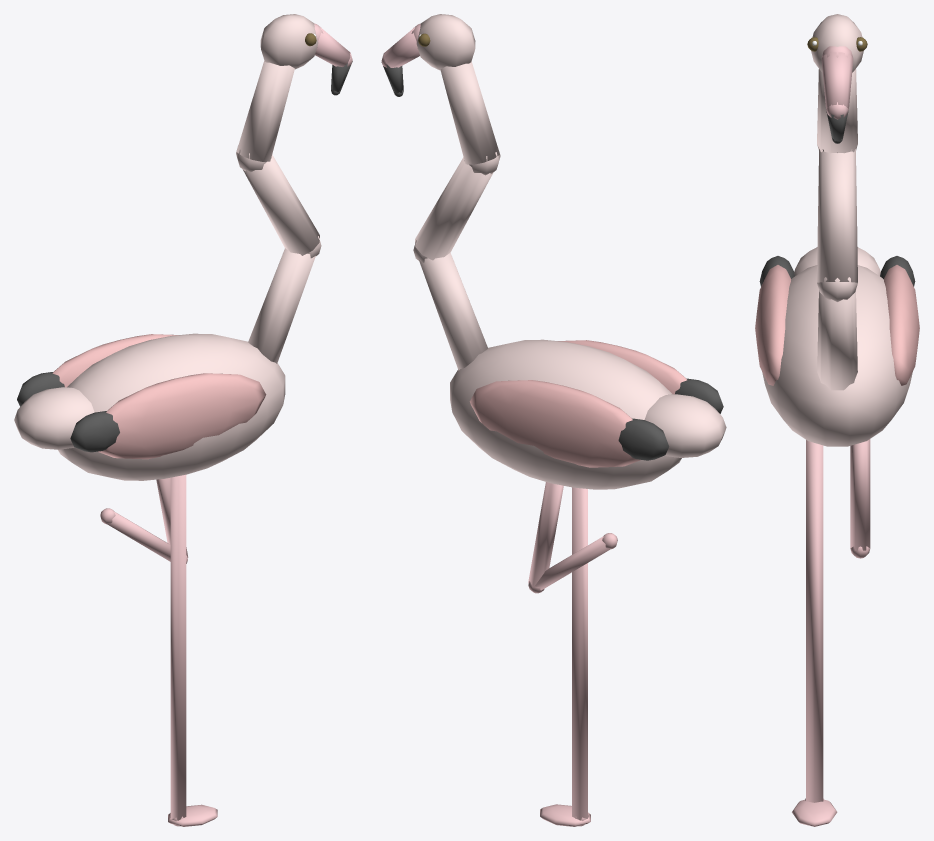
File: greater-flamingo.glb
The picture shows the model from 3 angles, left to right: view 1: azimuth 30°, elevation 25°; view 2: azimuth 150°, elevation 25°; view 3: azimuth 270°, elevation 25°; orthographic projection. The views are drawn at different scales.
Parts seen in each view (by area): view 1: e.009, e.011, e, e.013; view 2: e.009, e.013, e, e.011; view 3: e.009, e, e.011, e.013.
Boxes of the visible parts, x1,y1,x2,y2 form: e.009: [14, 61, 321, 826]; e.011: [70, 373, 266, 459]; e: [260, 14, 352, 95]; e.013: [17, 334, 178, 406]; e.009: [413, 61, 726, 826]; e.013: [469, 380, 669, 467]; e: [381, 14, 475, 96]; e.011: [558, 340, 723, 413]; e.009: [762, 69, 912, 826]; e: [807, 14, 867, 143]; e.011: [755, 256, 794, 385]; e.013: [880, 256, 919, 385].
Size of the model in its own units: 0.935 by 2.07 by 0.36.
